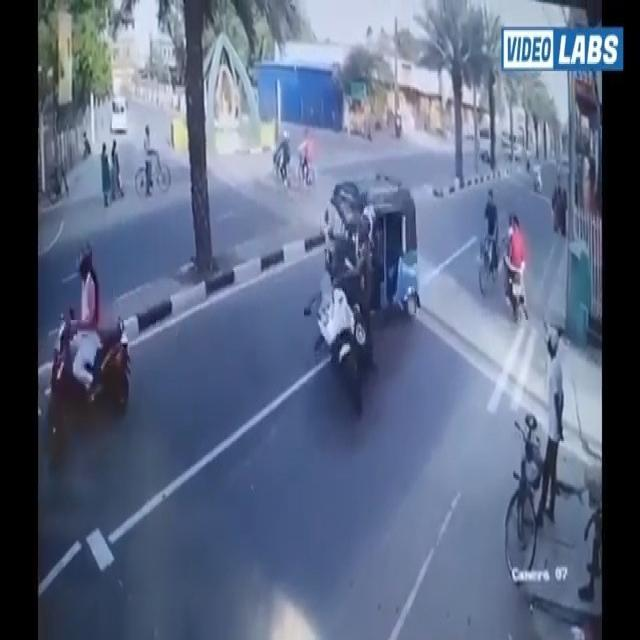multiple_accident: (290, 149, 427, 410)
